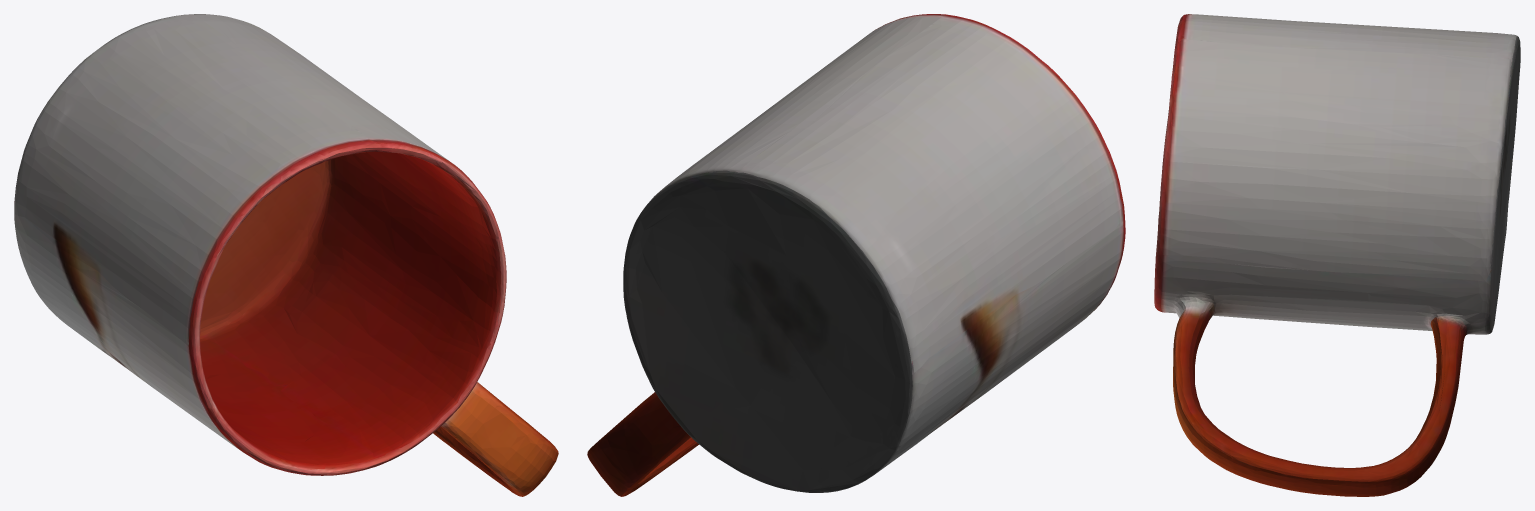
File: mug.glb
3 views of the same model, side by side, from view 1: azimuth 30°, elevation 25°; view 2: azimuth 150°, elevation 25°; view 3: azimuth 270°, elevation 25° (orthographic). The views are drawn at different scales.
Visible parts, largest first — view 1: geometry_0; view 2: geometry_0; view 3: geometry_0.
Part boxes in pixels (x1,y1,x2,y2): geometry_0: (14, 14, 558, 496); geometry_0: (587, 14, 1125, 496); geometry_0: (1154, 14, 1520, 496).
Size of the model in its own units: 0.1136 by 0.1161 by 0.1023.
1 material, 1 textured.
